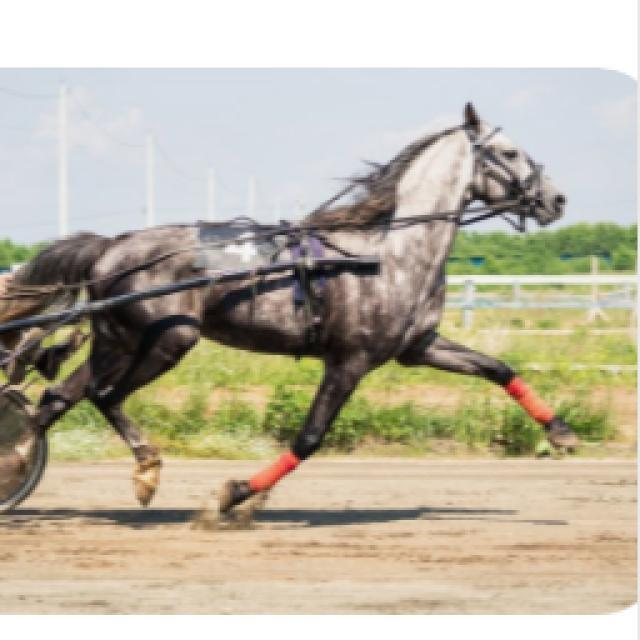Horse: (0, 98, 585, 532)
